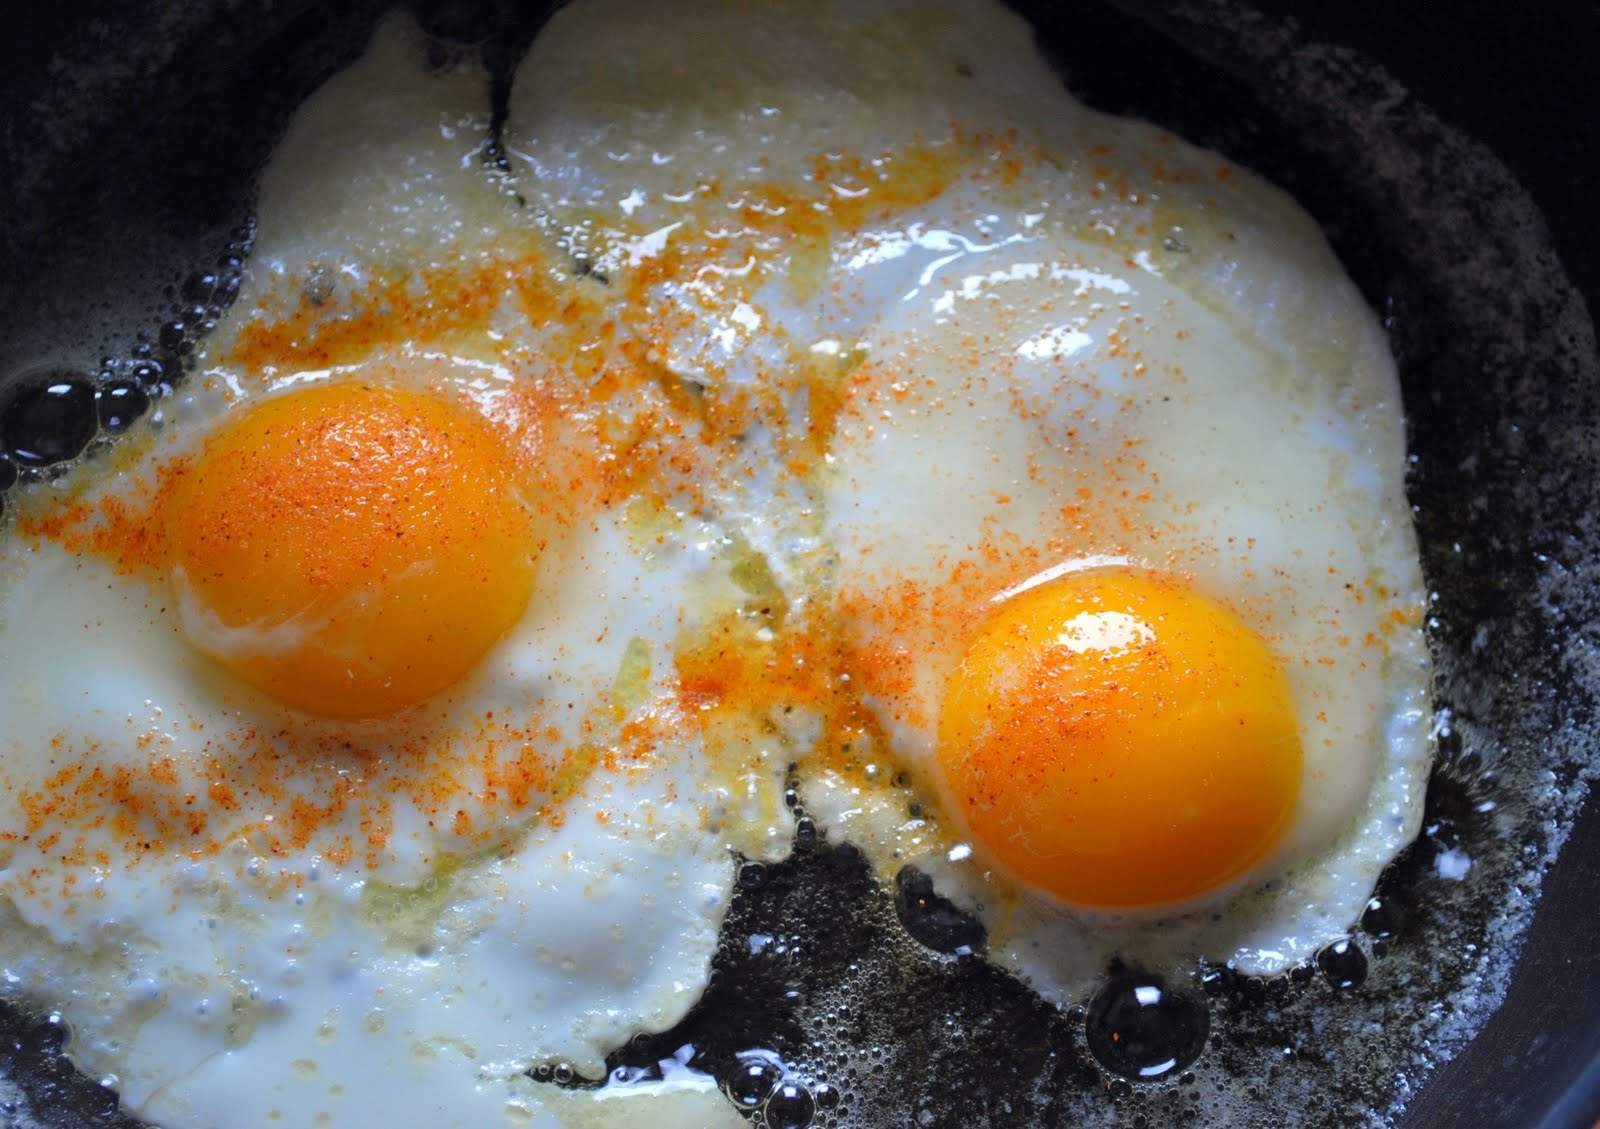fried egg: (518, 20, 1463, 1004), (18, 95, 784, 1129)
